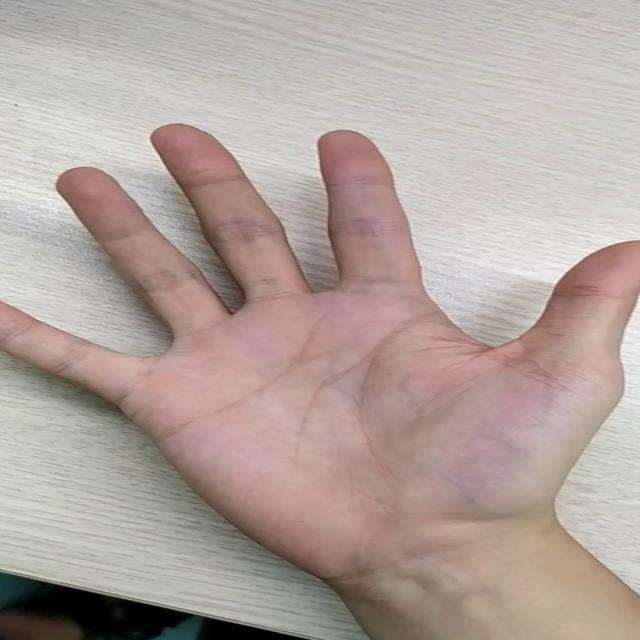hand: (4, 114, 624, 551)
